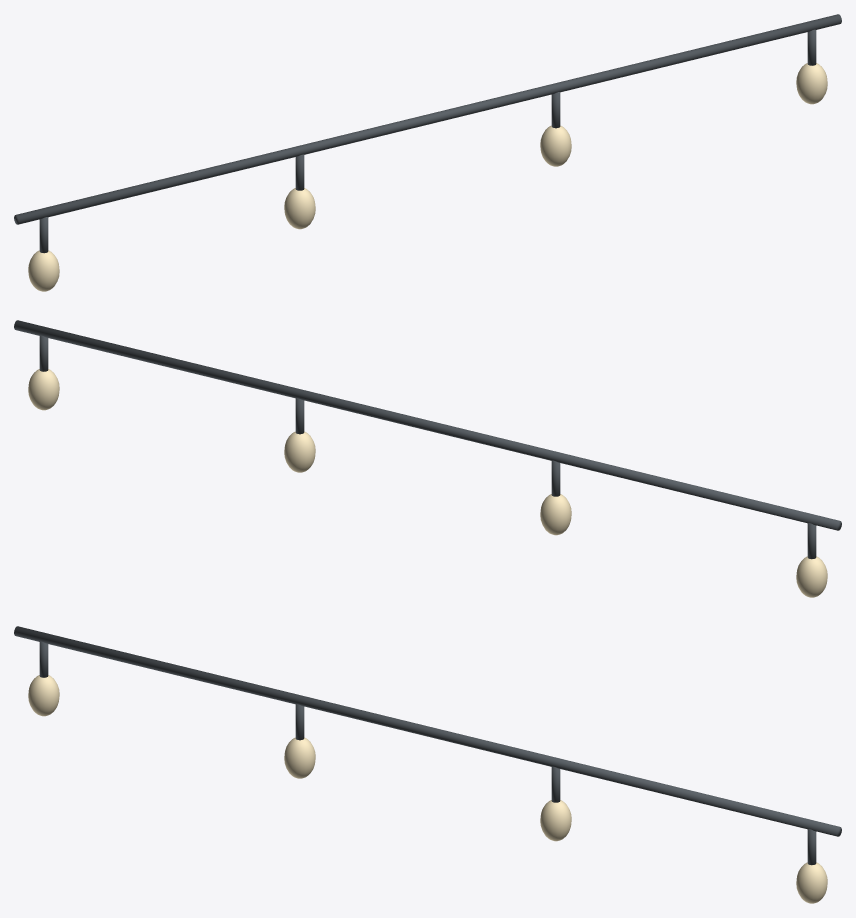
The model's file is atelier-track-light.glb.
The picture shows the model from 3 angles, top to bottom: view 1: azimuth 30°, elevation 25°; view 2: azimuth 150°, elevation 25°; view 3: azimuth 330°, elevation 25°; orthographic projection.
Visible parts, largest first — view 1: metal.077, bulb.011; view 2: metal.077, bulb.011; view 3: metal.077, bulb.011.
Part boxes in pixels (x1=…): metal.077: x1=14, y1=14, x2=841, y2=253; bulb.011: x1=28, y1=63, x2=827, y2=291; metal.077: x1=14, y1=320, x2=841, y2=559; bulb.011: x1=28, y1=369, x2=827, y2=597; metal.077: x1=14, y1=626, x2=841, y2=865; bulb.011: x1=28, y1=675, x2=827, y2=903.
Bounding box in the file's own units: 1.5 × 0.143 × 0.05.
